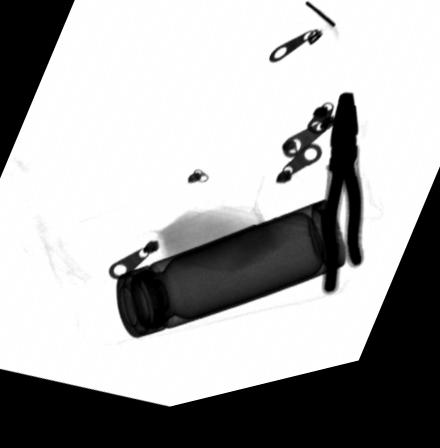Pliers: (319, 108, 364, 311)
